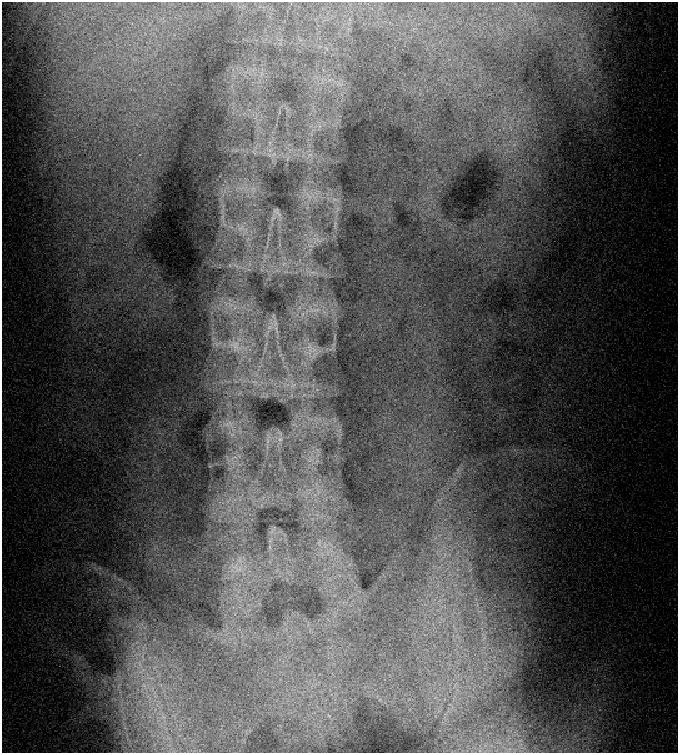lumbar scoliosis: (183, 73, 366, 607)
